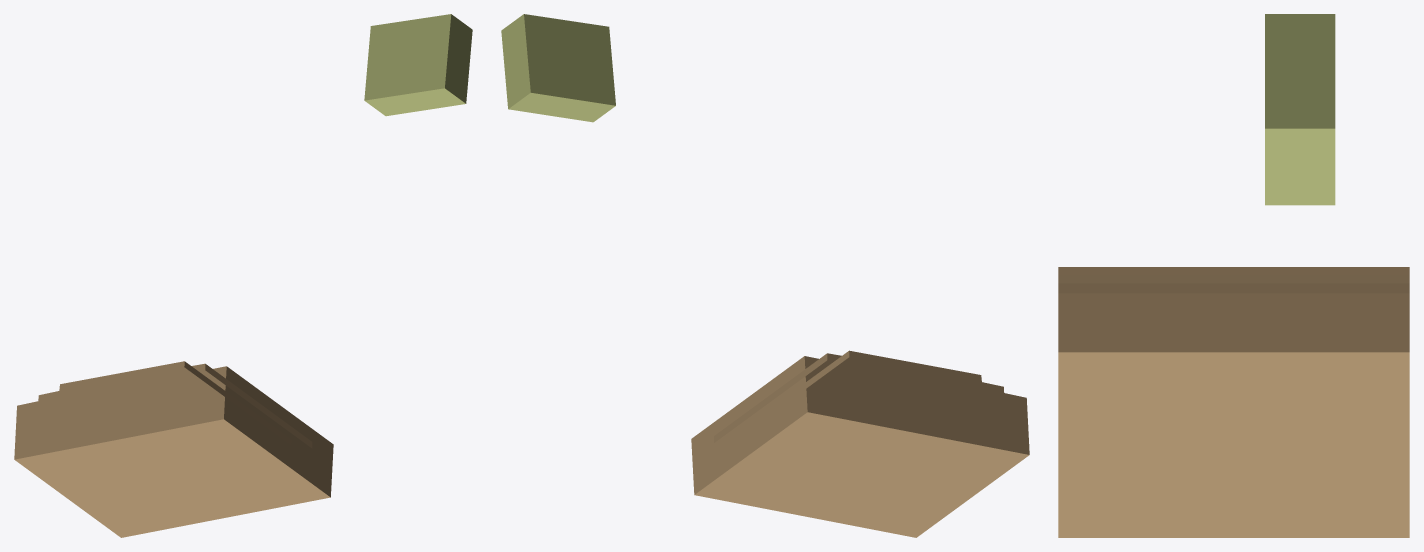
3 renders of one model, left to right at view 1: azimuth 30°, elevation 25°; view 2: azimuth 150°, elevation 25°; view 3: azimuth 270°, elevation 25°, orthographic. The views are drawn at different scales.
Parts seen in each view (by area): view 1: 0_0_3_1_3_3_2_1; view 2: 0_0_3_1_3_3_2_1; view 3: 0_0_3_1_3_3_2_1.
Part boxes in pixels (x1,y1,x2,y2): 0_0_3_1_3_3_2_1: (14, 14, 472, 537); 0_0_3_1_3_3_2_1: (501, 14, 1029, 537); 0_0_3_1_3_3_2_1: (1058, 14, 1409, 537).
Size of the model in its own units: 67.11 by 58.72 by 30.
